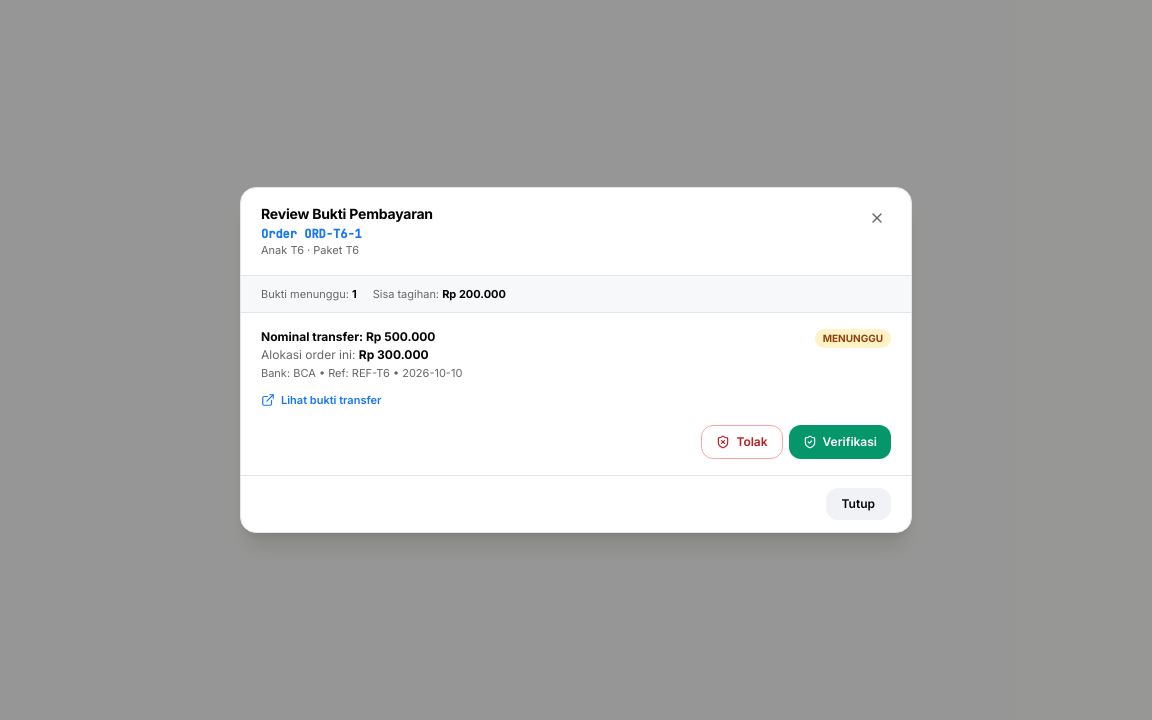
Scenario: PaymentReviewModal (T6: review bukti pembayaran ortu) › menampilkan pesan server apa adanya saat verifikasi gagal
This screenshot has width=1152, height=720.
Click the button "Verifikasi": [840, 442] box [788,425,891,459]
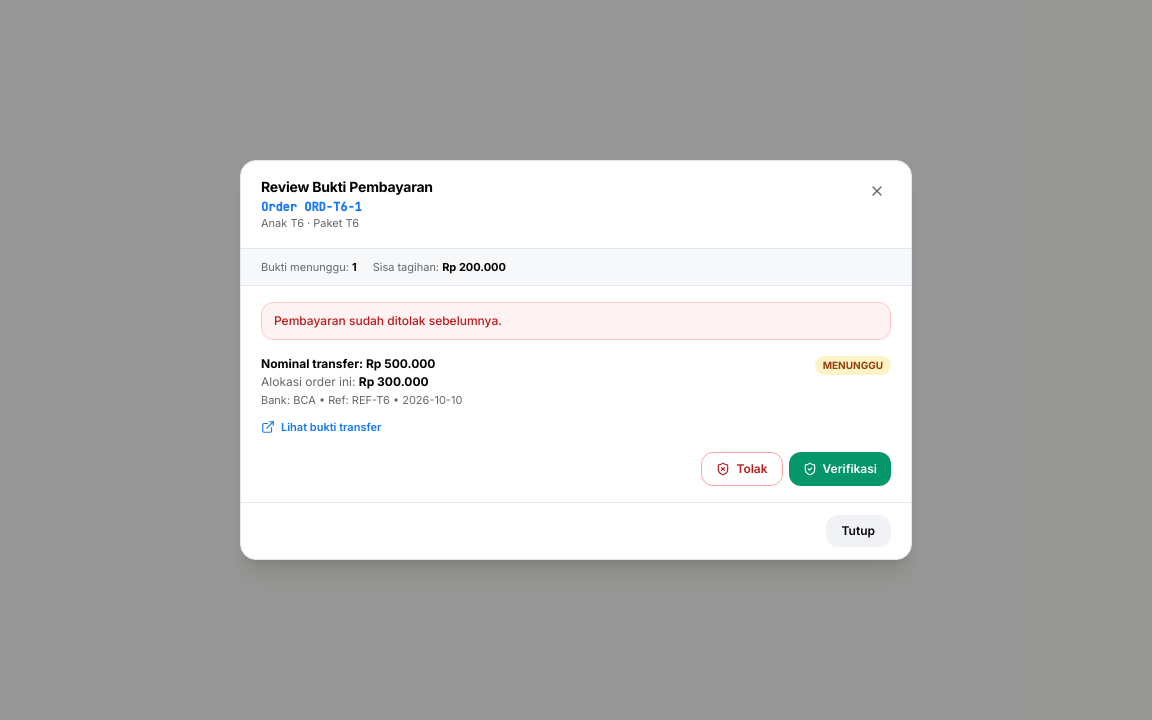
Now the message reads "Pembayaran sudah ditolak sebelumnya.", box [274,313,502,328]
